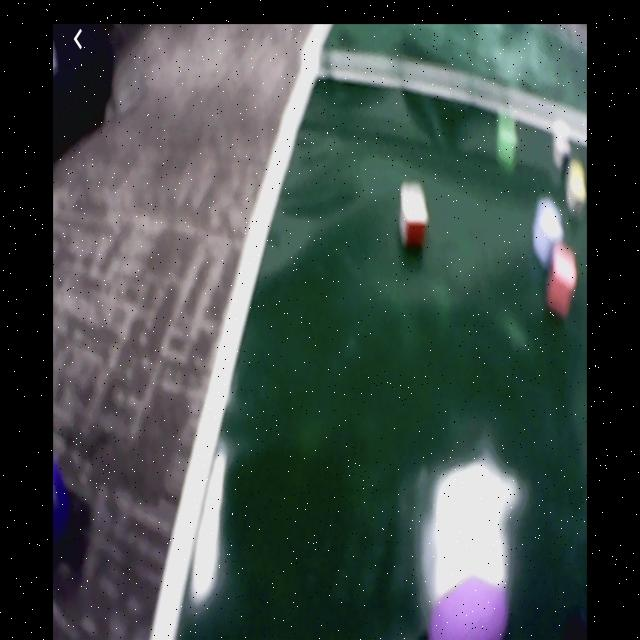ball: (429, 574, 507, 639), (52, 457, 66, 547)
